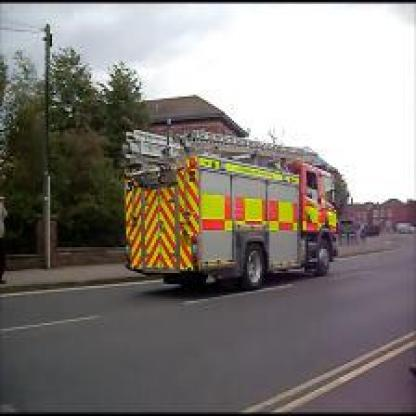other: (129, 164, 199, 262), (200, 191, 336, 229)
